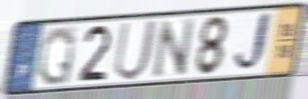2: (77, 23, 113, 84)
8: (193, 14, 230, 77)
J: (231, 9, 274, 76)
N: (151, 16, 197, 81)
Q: (36, 24, 78, 88)
U: (112, 17, 160, 83)
